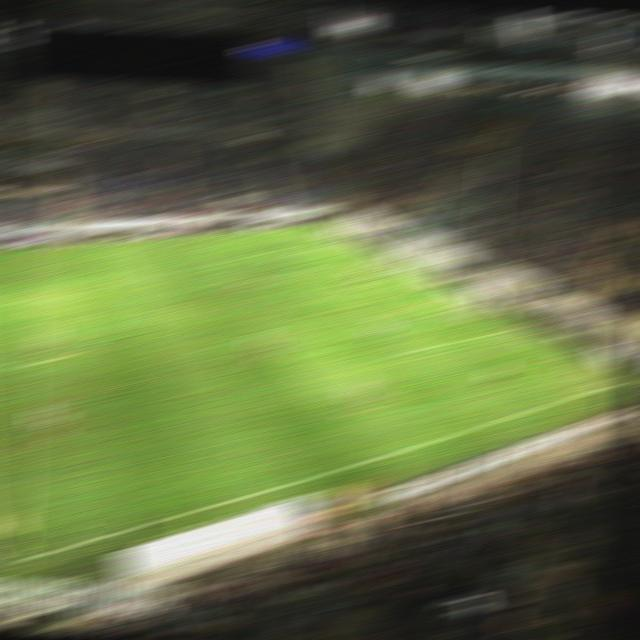bigarea_bottom_inner: (388, 348, 414, 358)
bigarea_bottom_outter: (500, 324, 525, 332)
bigarea_top_inner: (252, 247, 277, 257)
bigarea_top_outter: (335, 239, 362, 248)
bottom_arc_area_intersection: (330, 303, 355, 311)
corner: (304, 224, 329, 232)
halfcircle_bottom: (12, 361, 38, 370)
halfcircle_top: (15, 296, 41, 304)
midline_bottom_intersection: (0, 553, 33, 571)
midline_top_intersection: (18, 245, 44, 254)
smallarea_bottom_inner: (410, 298, 436, 306)
smallarea_bottom_outter: (442, 292, 467, 300)
smallarea_top_inner: (342, 260, 368, 268)
smallarea_top_outter: (369, 256, 395, 264)
top_arc_area_intersection: (281, 270, 308, 278)
